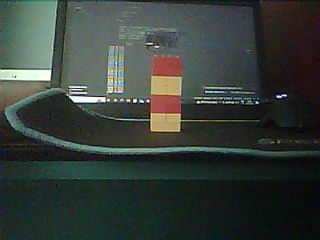lego: (150, 55, 182, 133)
